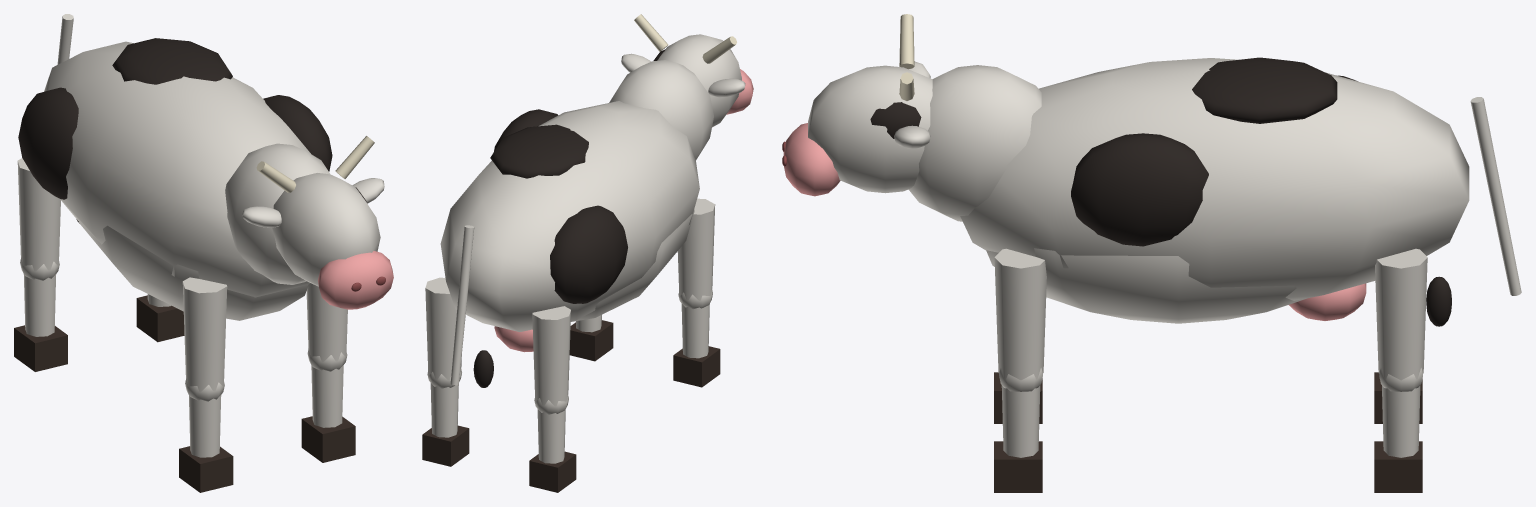
File: vaca.glb
The picture shows the model from 3 angles, left to right: view 1: azimuth 30°, elevation 25°; view 2: azimuth 150°, elevation 25°; view 3: azimuth 270°, elevation 25°; orthographic projection. The views are drawn at different scales.
Parts seen in each view (by area): view 1: vaca, object 10, object 13, object 4, object 12, object 3, object 9, object 7, object 8, object 11, object 2; view 2: vaca, object 4, object 7, object 10, object 3, object 9, object 6, object 13, object 8; view 3: vaca, object 6, object 12, object 13, object 7.
Boxes of the visible parts, left/top/right/bottom form: vaca: left=17, top=14, right=393, bottom=392; object 10: left=179, top=446, right=233, bottom=492; object 13: left=301, top=416, right=355, bottom=462; object 4: left=14, top=325, right=67, bottom=371; object 12: left=311, top=365, right=343, bottom=427; object 3: left=23, top=274, right=56, bottom=336; object 9: left=189, top=395, right=221, bottom=457; object 7: left=136, top=295, right=184, bottom=342; object 8: left=185, top=378, right=224, bottom=401; object 11: left=307, top=348, right=347, bottom=371; object 2: left=20, top=257, right=59, bottom=280; vaca: left=425, top=14, right=753, bottom=406; object 4: left=529, top=451, right=576, bottom=492; object 7: left=422, top=425, right=469, bottom=466; object 10: left=673, top=346, right=720, bottom=387; object 3: left=537, top=409, right=565, bottom=463; object 9: left=681, top=303, right=709, bottom=358; object 6: left=430, top=383, right=458, bottom=437; object 13: left=569, top=320, right=613, bottom=361; object 8: left=678, top=289, right=712, bottom=309; vaca: left=782, top=14, right=1521, bottom=380; object 6: left=1382, top=385, right=1420, bottom=457; object 12: left=1001, top=385, right=1040, bottom=457; object 13: left=994, top=441, right=1042, bottom=492; object 7: left=1374, top=441, right=1422, bottom=492.
Bounding box in the file's own units: 1.02 × 1.65 × 2.72.
